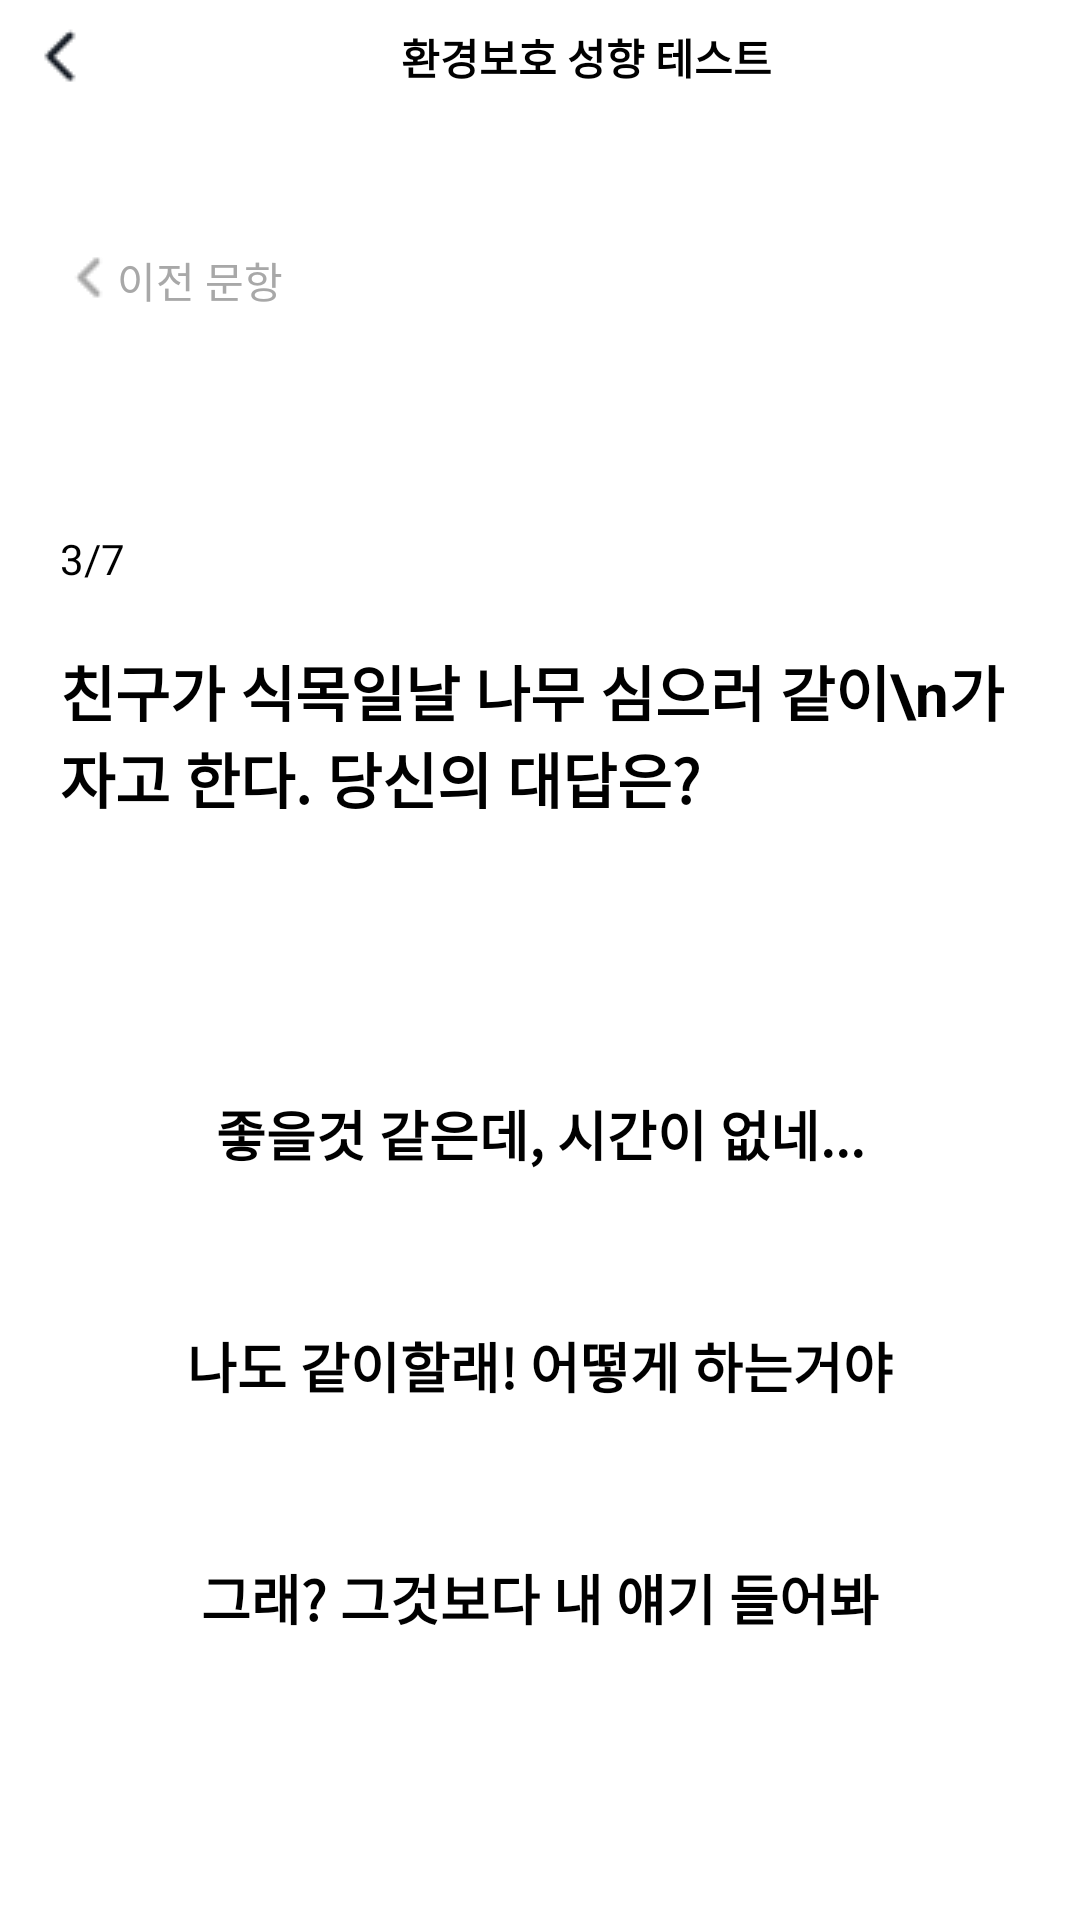

Screen size 1080 × 1920. Icon name, then its center in pixels as [x,y]:
backicon: [60,56]
greybackicon: [88,277]
